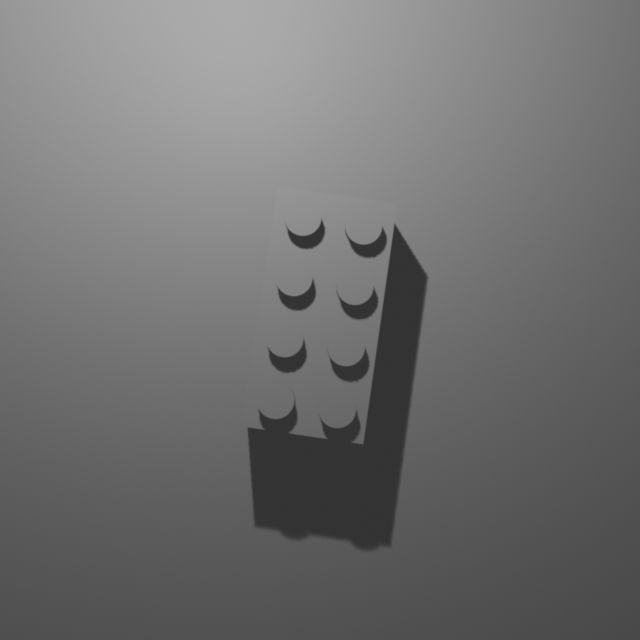lego_2x4: (240, 183, 398, 445)
